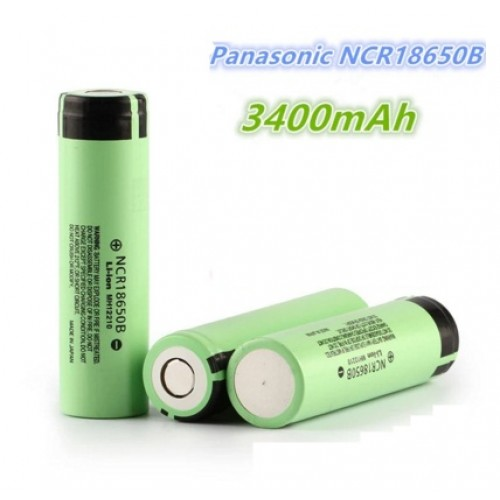Battery: (220, 291, 462, 430), (55, 84, 152, 422)
